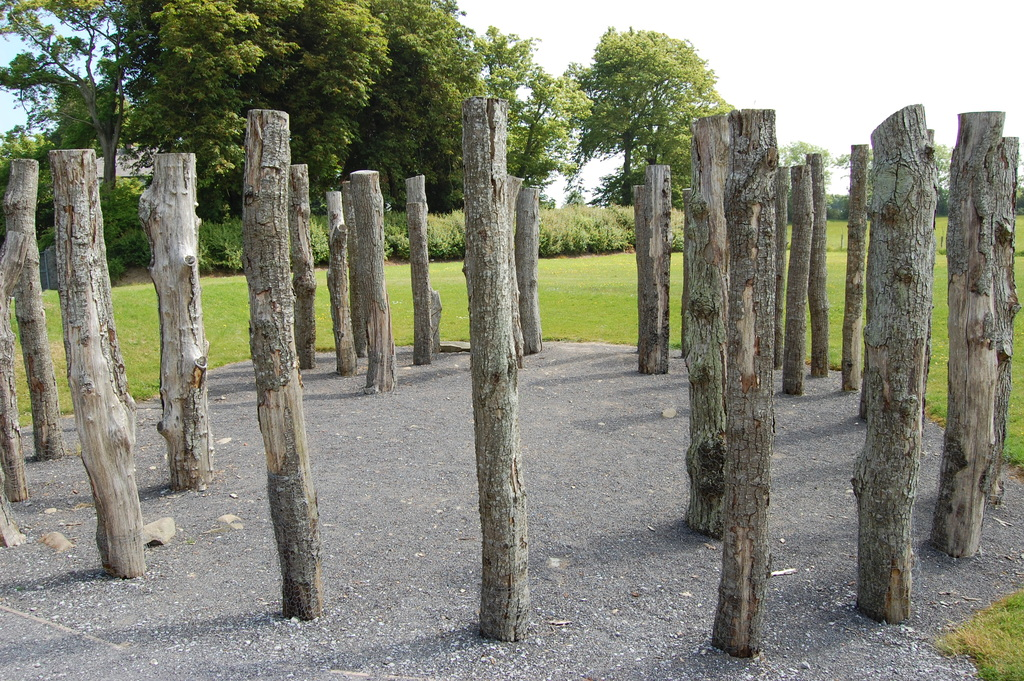Tree: (0, 0, 594, 214), (553, 24, 737, 201), (781, 142, 849, 217), (934, 140, 954, 208)
